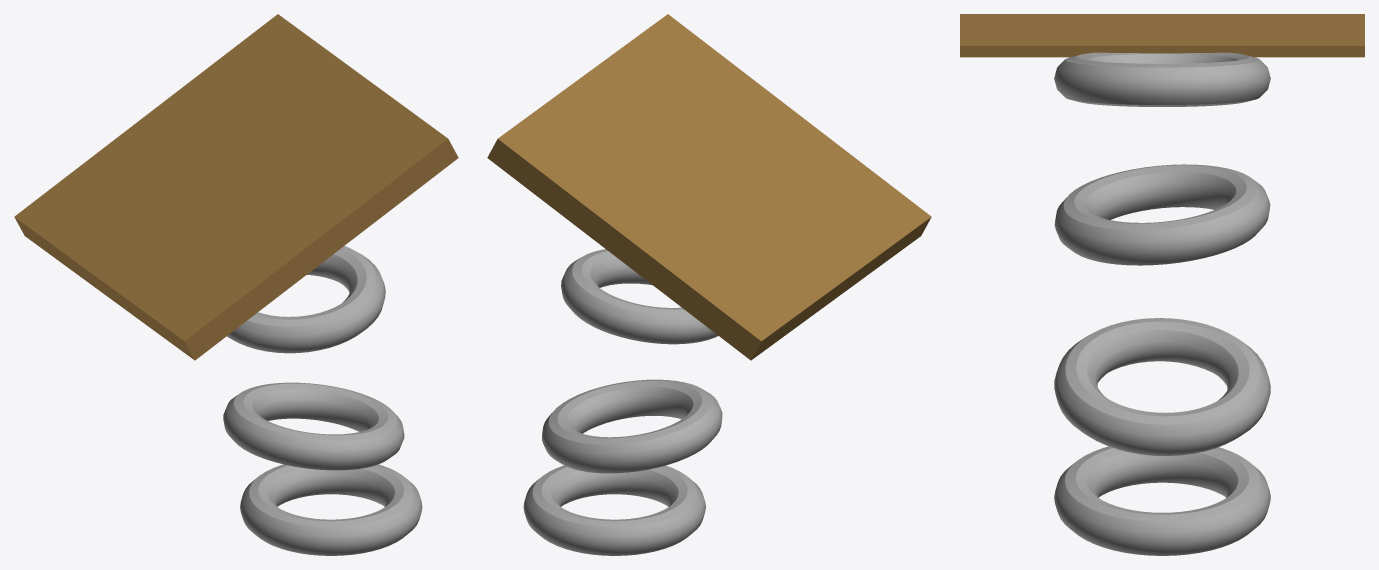
File: tile_spring.fbx
The picture shows the model from 3 angles, left to right: view 1: azimuth 30°, elevation 25°; view 2: azimuth 150°, elevation 25°; view 3: azimuth 270°, elevation 25°; orthographic projection. The views are drawn at different scales.
Visible parts, largest first — view 1: Plane, Torus.002, Torus.001, Torus.003; view 2: Plane, Torus.002, Torus.001, Torus.003; view 3: Torus.002, Plane, Torus.003, Torus.001, Torus.004.
Part boxes in pixels (<box>): Plane: <box>14,14,458,360</box>; Torus.002: <box>223,382,404,470</box>; Torus.001: <box>240,464,422,555</box>; Torus.003: <box>227,246,385,353</box>; Plane: <box>487,14,931,360</box>; Torus.002: <box>542,379,722,473</box>; Torus.001: <box>523,465,705,555</box>; Torus.003: <box>561,249,718,344</box>; Torus.002: <box>1054,318,1270,455</box>; Plane: <box>960,14,1364,57</box>; Torus.003: <box>1054,164,1270,265</box>; Torus.001: <box>1054,446,1270,555</box>; Torus.004: <box>1054,52,1270,106</box>.
Bounding box in the file's own units: 211 × 285 × 200.
